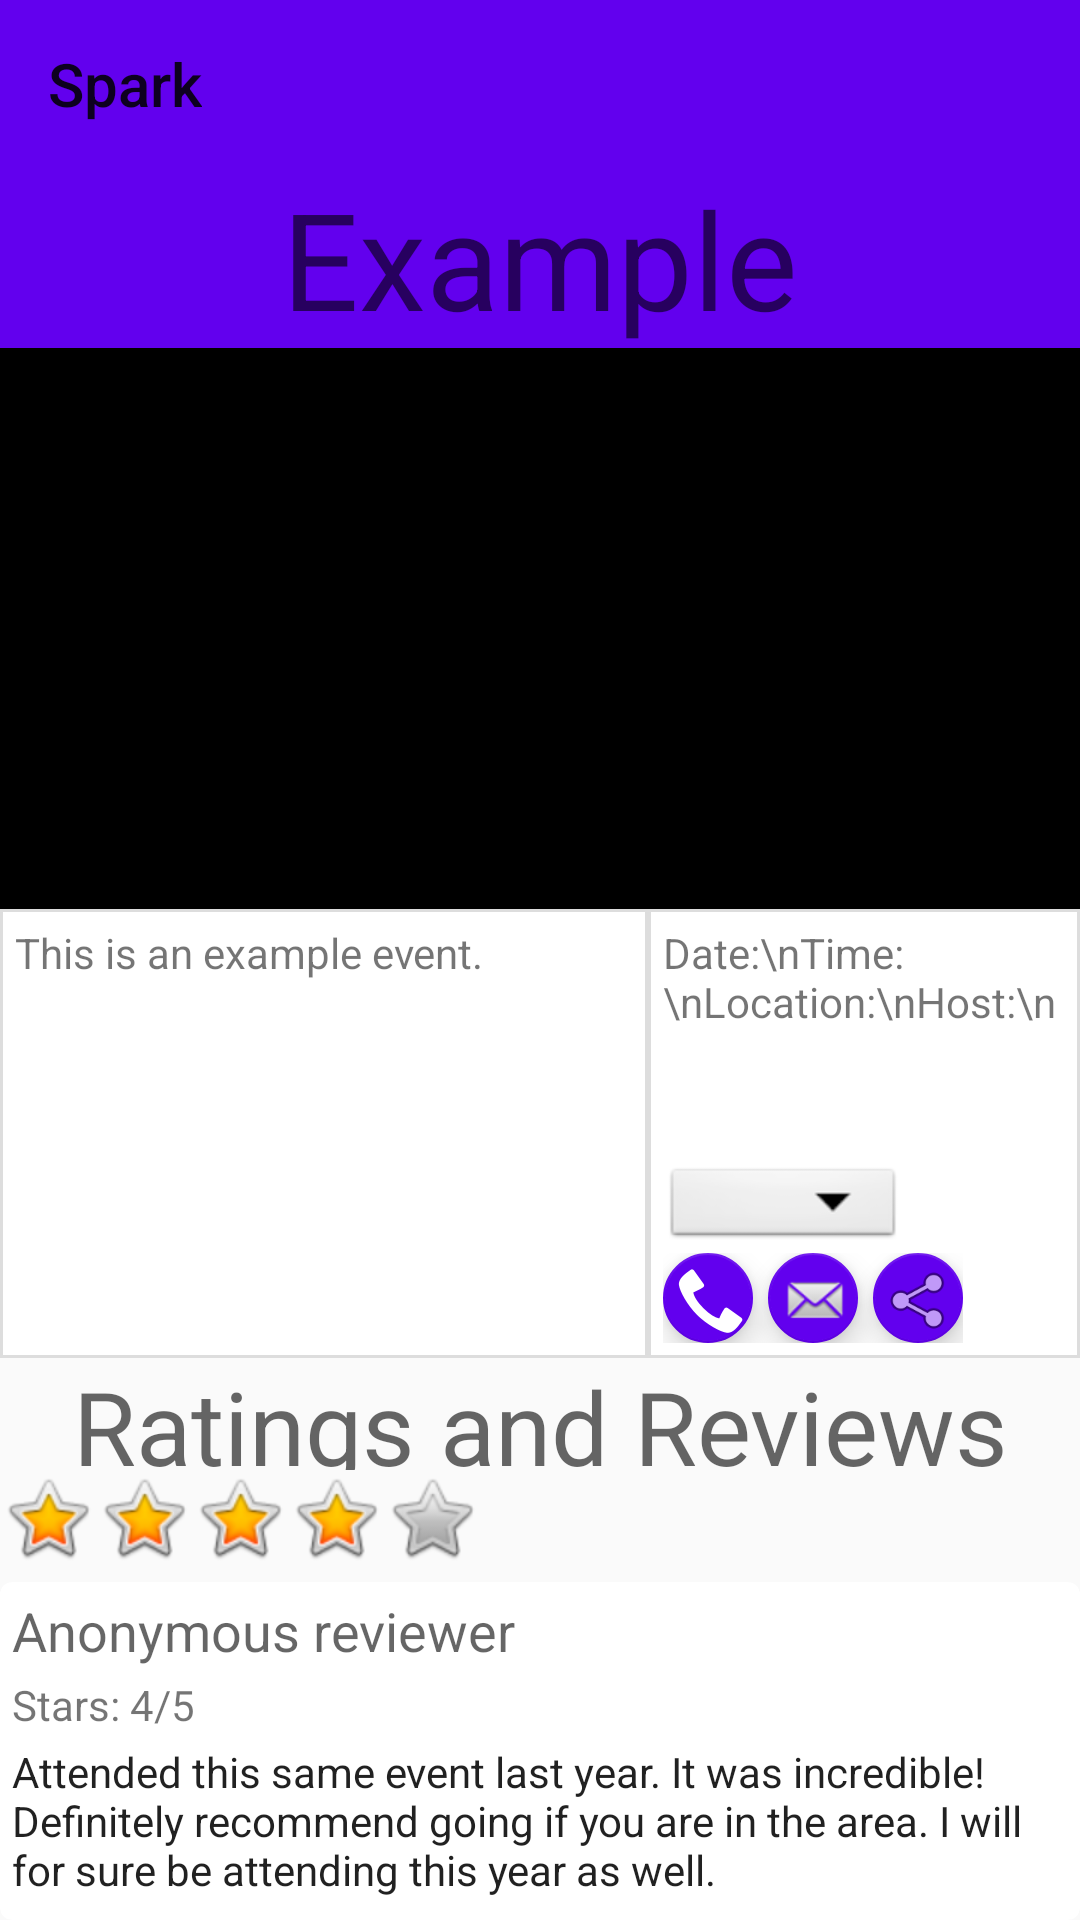

Where to tap for icons on this 1080x1920 app screen, as (x,y):
phone call: (708,1298)
share: (918,1298)
sym action email: (813,1298)
